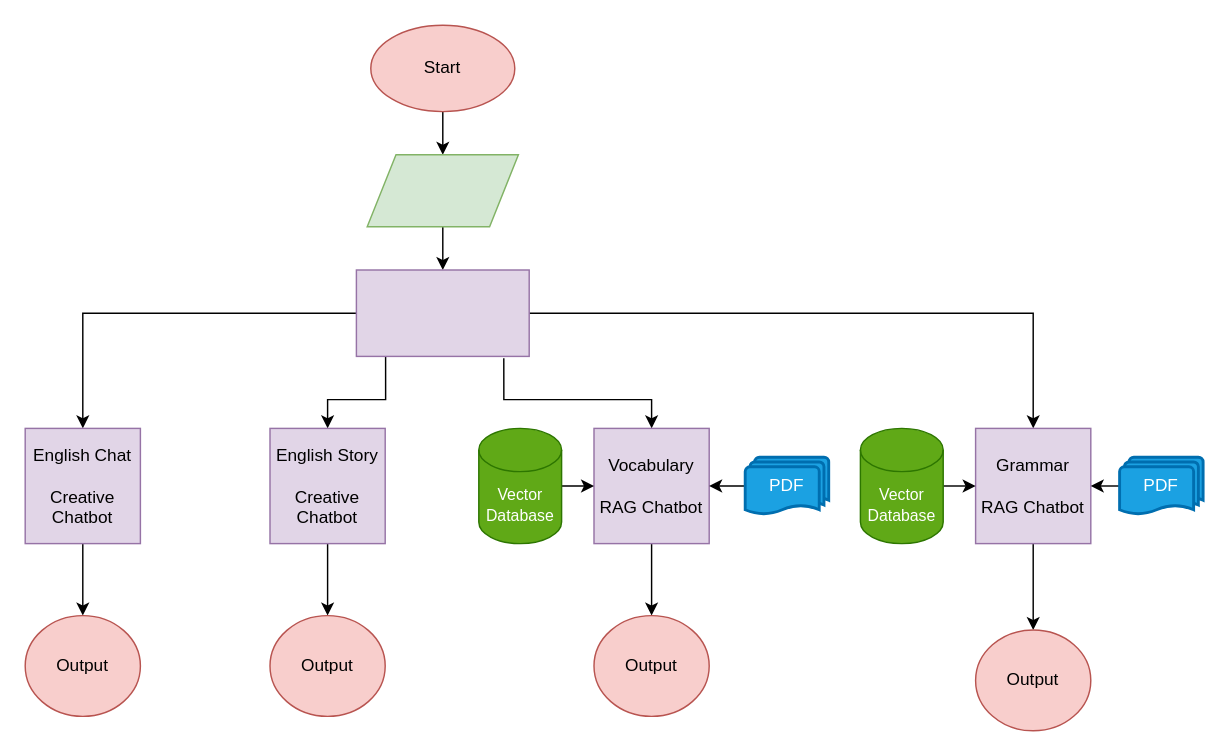
Some shapes in this 1230 by 756 pixel diagram are drawn without their labels. The box of each missing label's shape, as (x1, y1, x2, y2) in pixels:
Decision Node: (355, 269, 529, 356)
User Input: (366, 153, 518, 227)
